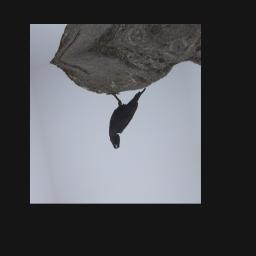Crow: (100, 82, 156, 151)
